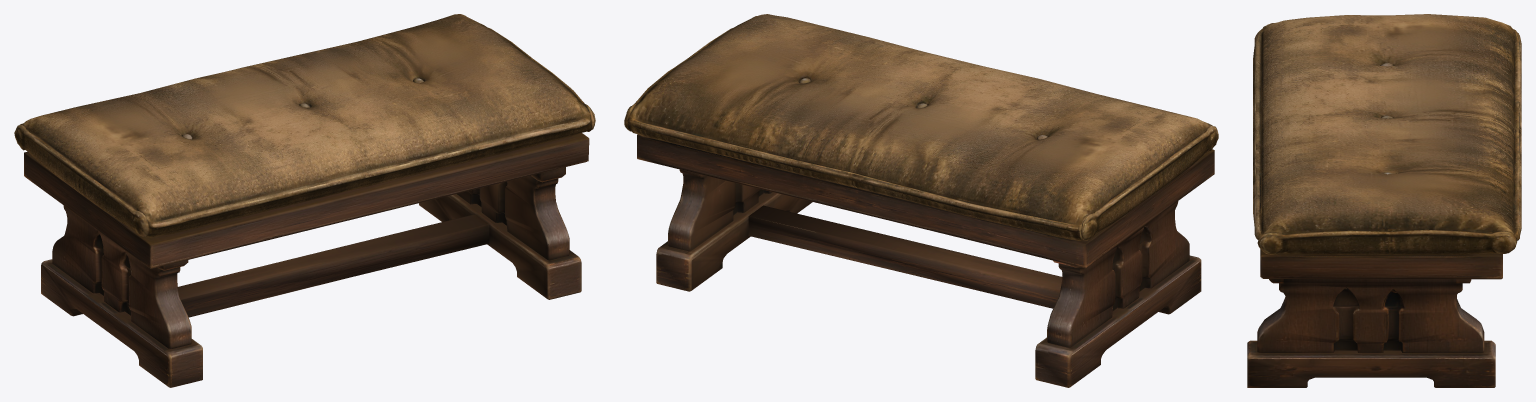
The model's file is furniture-kneeling-bench.glb.
3 renders of one model, left to right at view 1: azimuth 30°, elevation 25°; view 2: azimuth 150°, elevation 25°; view 3: azimuth 270°, elevation 25°, orthographic. The views are drawn at different scales.
Visible parts, largest first — view 1: tripo_node_d71a0cdb-525d-4e94-ad7a-bbf7b5ff2cbf; view 2: tripo_node_d71a0cdb-525d-4e94-ad7a-bbf7b5ff2cbf; view 3: tripo_node_d71a0cdb-525d-4e94-ad7a-bbf7b5ff2cbf.
Part boxes in pixels (<box>): tripo_node_d71a0cdb-525d-4e94-ad7a-bbf7b5ff2cbf: <box>14,14,595,387</box>; tripo_node_d71a0cdb-525d-4e94-ad7a-bbf7b5ff2cbf: <box>624,14,1218,387</box>; tripo_node_d71a0cdb-525d-4e94-ad7a-bbf7b5ff2cbf: <box>1247,14,1521,387</box>.
Bounding box in the file's own units: 1.2 × 0.48 × 0.65.
1 material, 1 textured.
